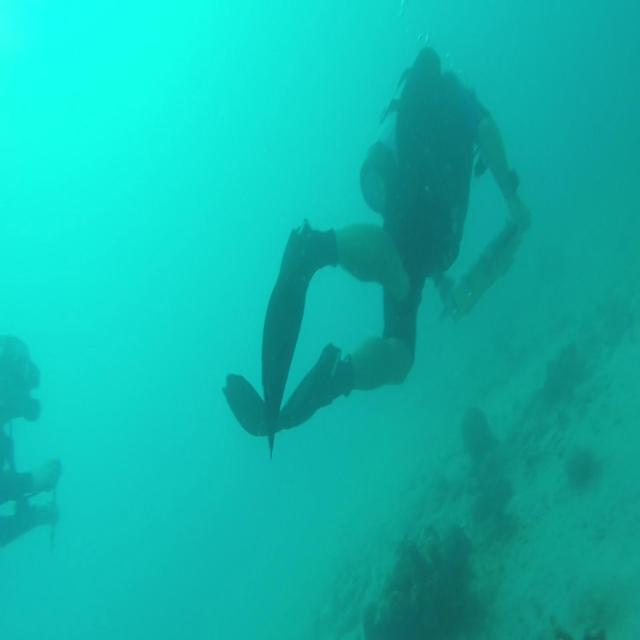human: (222, 44, 531, 459), (0, 333, 62, 551)
